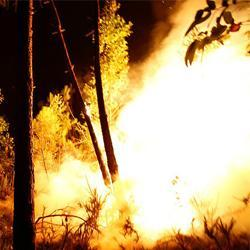fire: (132, 67, 243, 207), (46, 164, 110, 210)
